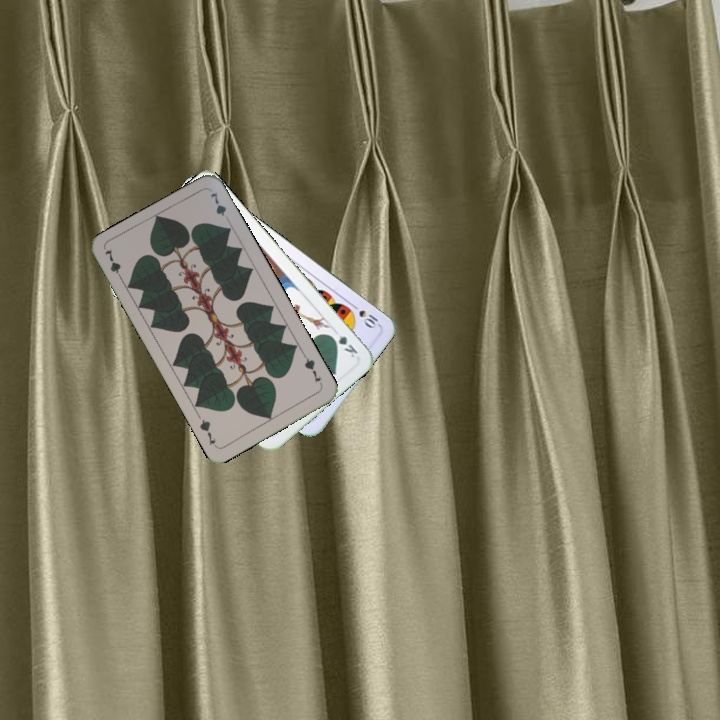G7: (100, 245, 126, 284), (300, 351, 325, 389)
GK: (326, 330, 361, 360)
S10: (347, 299, 382, 331)
